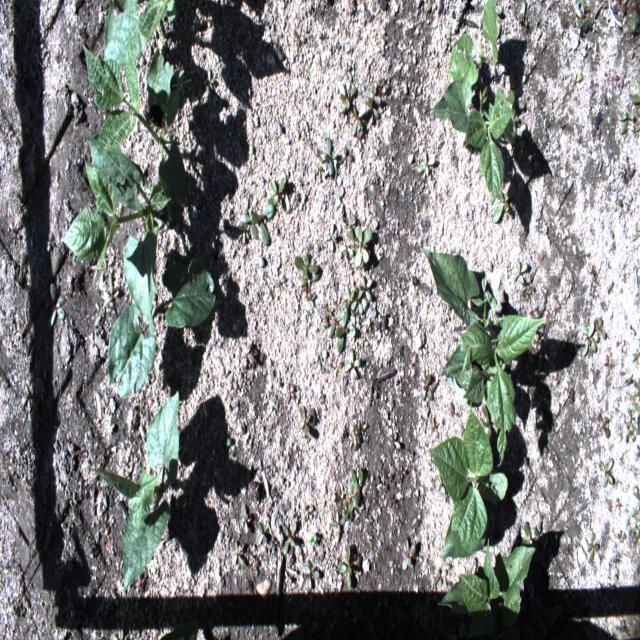crop: (61, 29, 186, 274), (422, 248, 548, 463), (106, 236, 216, 400), (90, 389, 180, 589), (427, 396, 509, 559), (432, 537, 536, 636), (431, 82, 513, 195), (105, 0, 175, 69), (450, 1, 502, 91)
weed: (324, 302, 356, 352), (491, 178, 518, 226), (338, 540, 360, 590), (266, 168, 290, 211), (249, 207, 274, 248), (240, 194, 262, 238), (293, 252, 320, 286), (344, 465, 363, 509), (352, 224, 371, 267), (49, 281, 66, 326), (343, 346, 363, 381), (302, 560, 322, 592), (323, 136, 338, 178), (575, 0, 592, 34), (365, 79, 382, 111), (580, 323, 596, 357), (403, 536, 418, 572), (104, 273, 120, 305), (598, 457, 614, 489), (520, 520, 538, 548), (340, 82, 357, 111), (352, 102, 366, 137), (587, 531, 601, 565), (328, 508, 346, 533), (241, 338, 255, 370), (619, 105, 634, 134), (509, 104, 520, 143), (339, 143, 354, 171), (344, 283, 356, 318), (298, 403, 310, 438), (482, 404, 492, 446), (418, 154, 437, 176), (337, 240, 357, 260), (283, 520, 296, 550), (351, 282, 364, 312), (238, 502, 250, 534), (359, 274, 373, 300), (630, 70, 640, 105), (422, 370, 434, 399), (17, 252, 27, 286), (232, 540, 244, 568), (346, 214, 358, 242), (630, 484, 640, 516), (385, 430, 400, 451), (597, 414, 610, 438), (432, 566, 449, 584), (515, 263, 530, 283), (326, 222, 336, 252), (593, 318, 605, 342), (292, 26, 305, 48), (628, 398, 640, 421), (627, 406, 639, 428), (207, 66, 216, 95), (238, 223, 250, 244), (624, 422, 636, 443), (631, 1, 639, 32), (257, 521, 268, 543), (352, 128, 363, 150), (378, 76, 390, 95), (343, 56, 352, 81), (570, 72, 584, 88), (314, 158, 322, 184), (306, 532, 318, 548), (46, 231, 54, 252), (286, 381, 296, 397), (632, 338, 640, 358), (632, 516, 640, 536), (612, 0, 626, 11), (304, 503, 313, 520), (347, 434, 357, 448), (616, 528, 626, 542), (617, 333, 624, 353), (616, 496, 622, 514)
